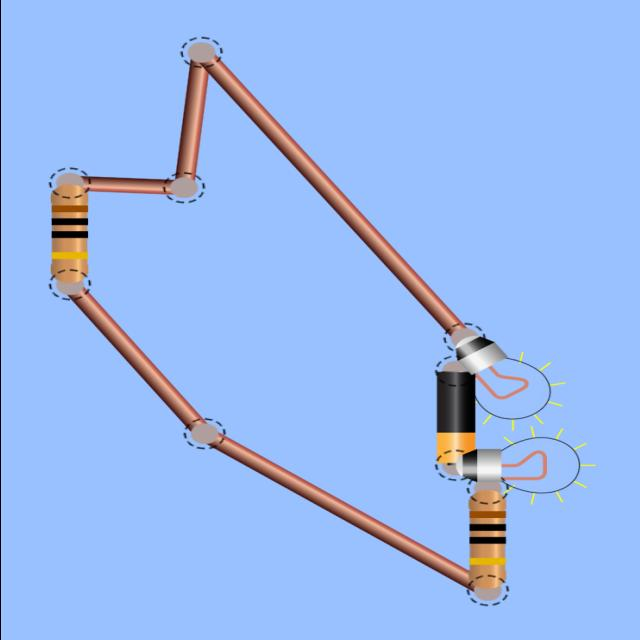Battery: (437, 371, 475, 462)
Light Bulb: (455, 338, 551, 420), (455, 436, 581, 494)
Resistor: (468, 489, 505, 590), (51, 184, 88, 284)
Wire: (202, 58, 463, 334), (214, 435, 470, 588), (70, 291, 199, 428), (175, 60, 208, 180), (82, 176, 171, 193)
